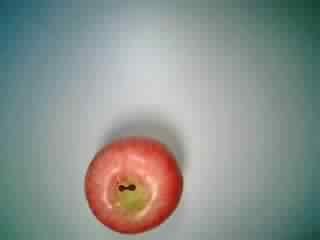apple: (81, 136, 189, 234)
